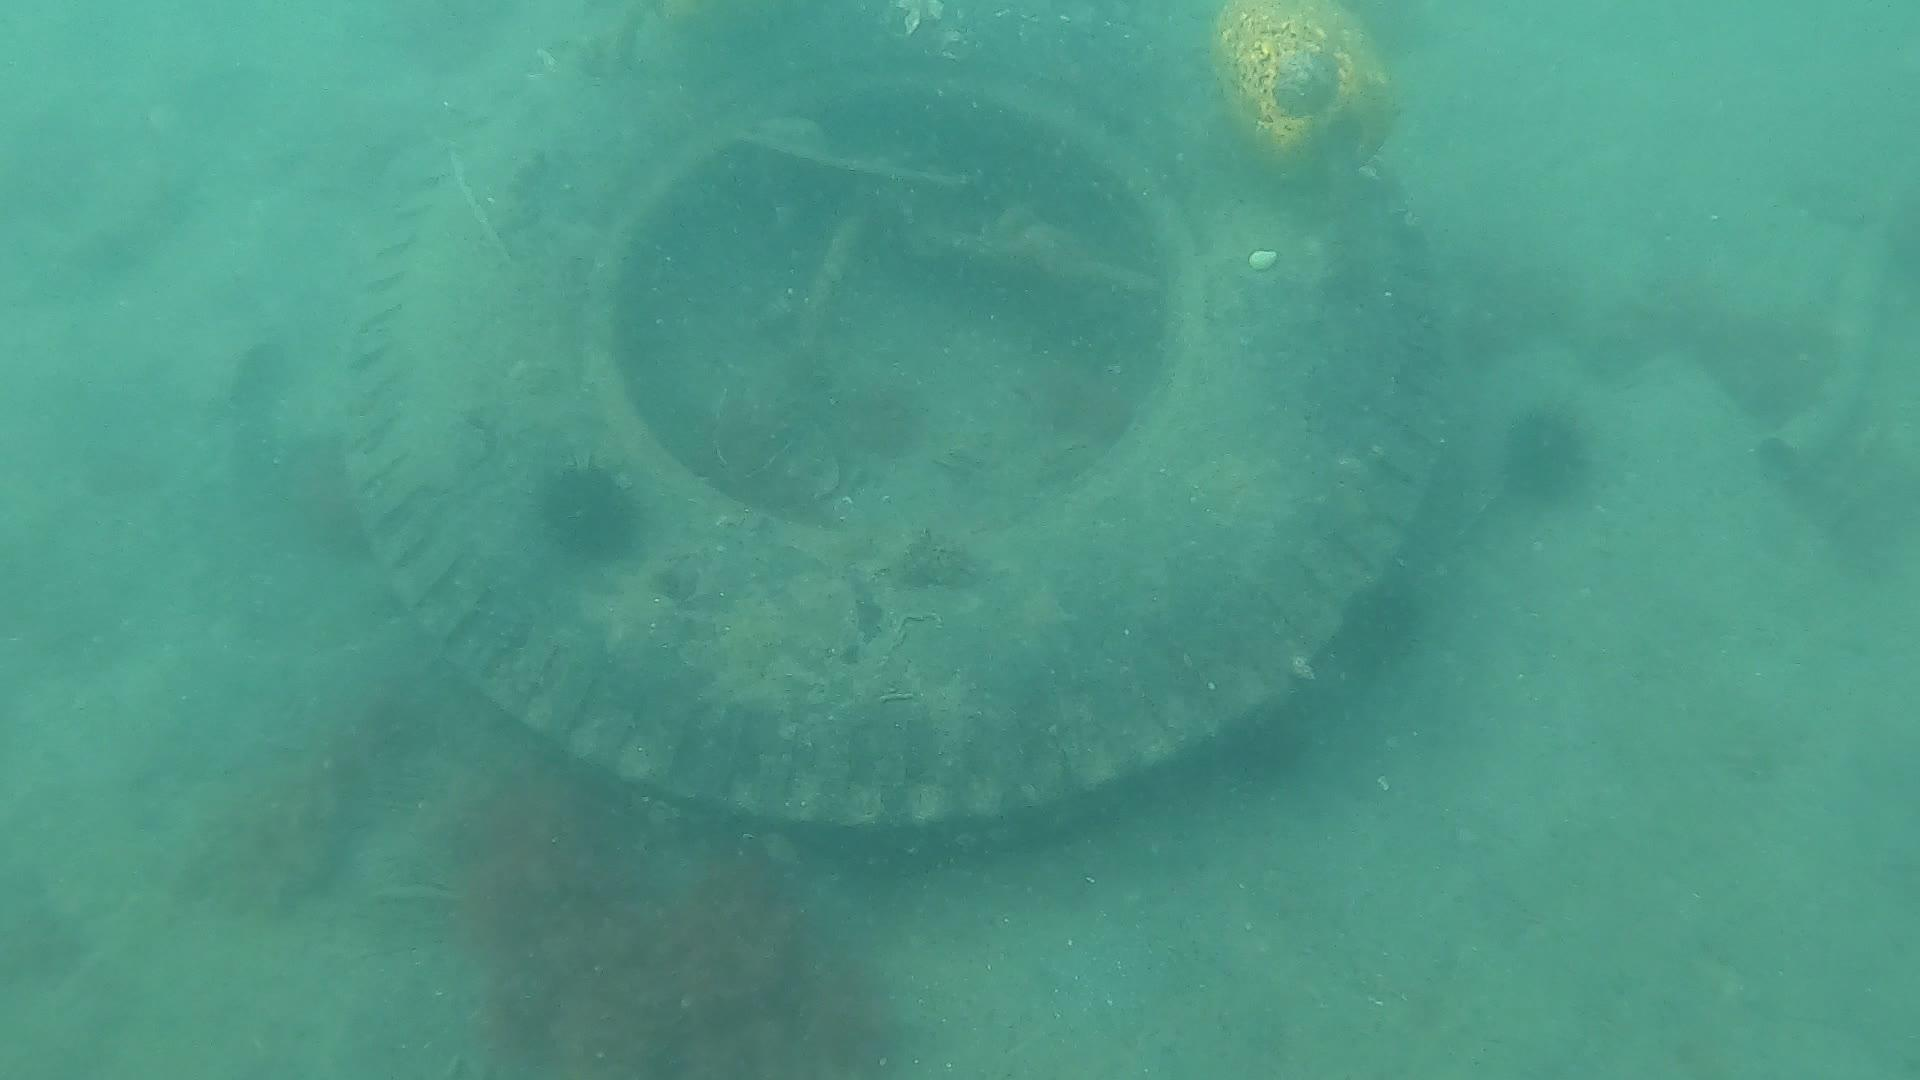tire: (338, 0, 1447, 884)
